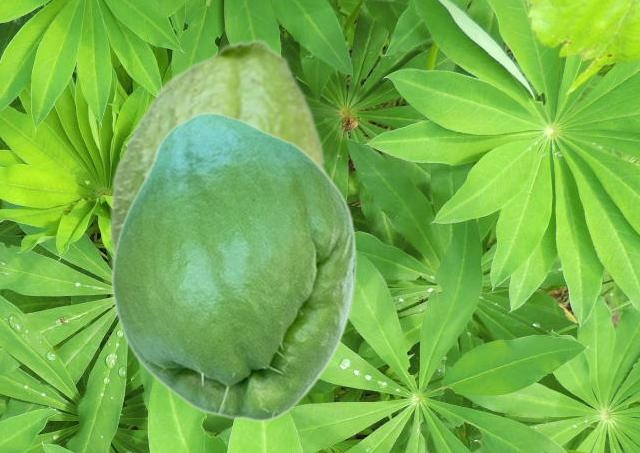sayote: (110, 112, 356, 422), (108, 37, 332, 276)
